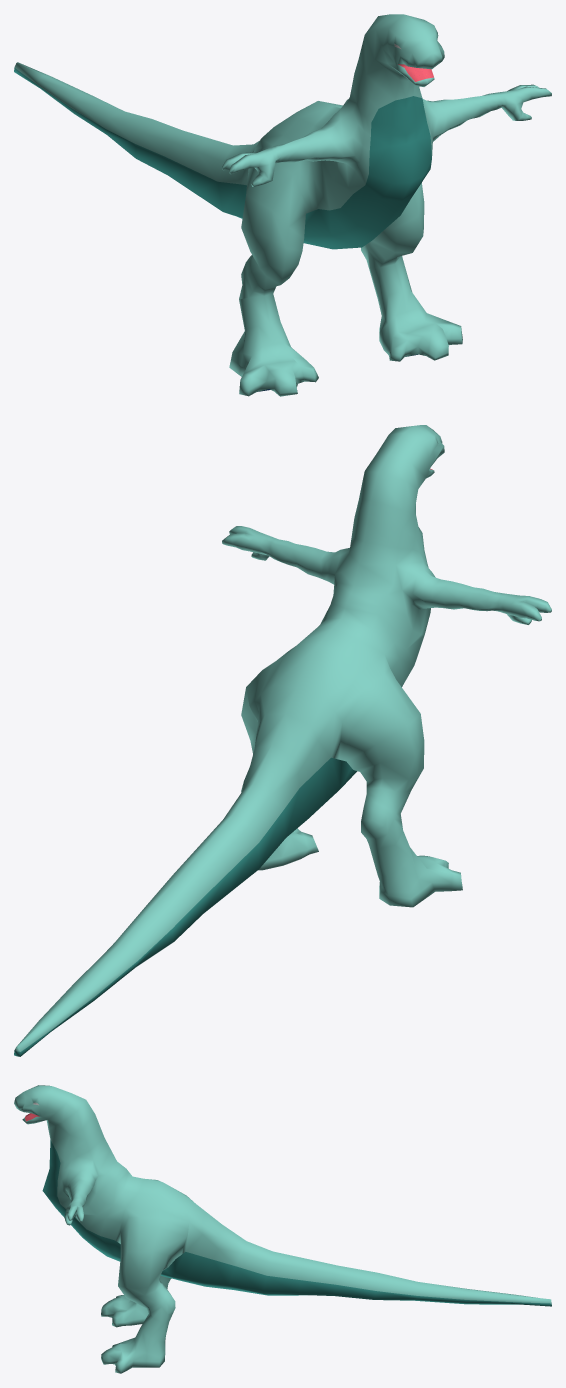
File: model-kaiju.glb
3 views of the same model, one above another, from view 1: azimuth 30°, elevation 25°; view 2: azimuth 150°, elevation 25°; view 3: azimuth 270°, elevation 25° (orthographic). The views are drawn at different scales.
Visible parts, largest first — view 1: Dinosaur; view 2: Dinosaur; view 3: Dinosaur.
Boxes of the visible parts, x1,y1,x2,y2 form: Dinosaur: (14, 14, 551, 396); Dinosaur: (14, 425, 551, 1056); Dinosaur: (14, 1085, 551, 1373).
Bounding box in the file's own units: 1.81 × 2.1 × 4.06.
1 material, 1 textured.
